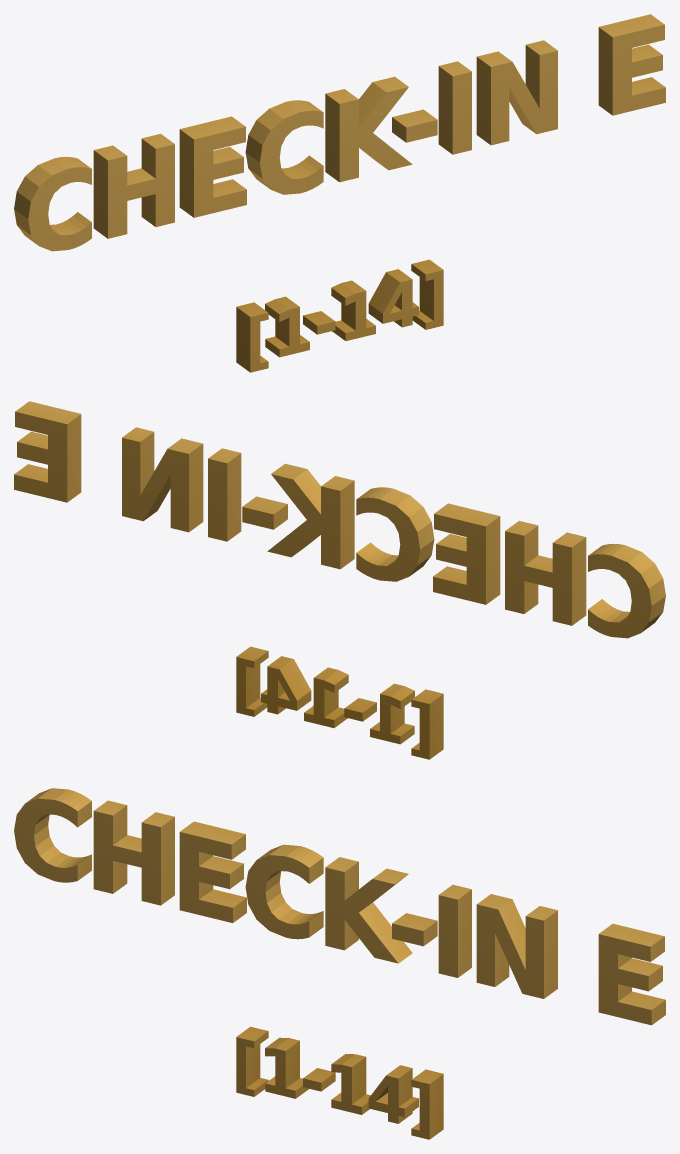
File: CHECK_IN_E_1_14.glb
3 renders of one model, top to bottom at view 1: azimuth 30°, elevation 25°; view 2: azimuth 150°, elevation 25°; view 3: azimuth 330°, elevation 25°, orthographic.
Parts seen in each view (by area): view 1: world; view 2: world; view 3: world.
Part boxes in pixels (x1,y1,x2,y2): world: (14,14,665,372); world: (14,401,665,759); world: (14,788,665,1139).
Bounding box in the file's own units: 15.4 × 5.73 × 0.5954.
